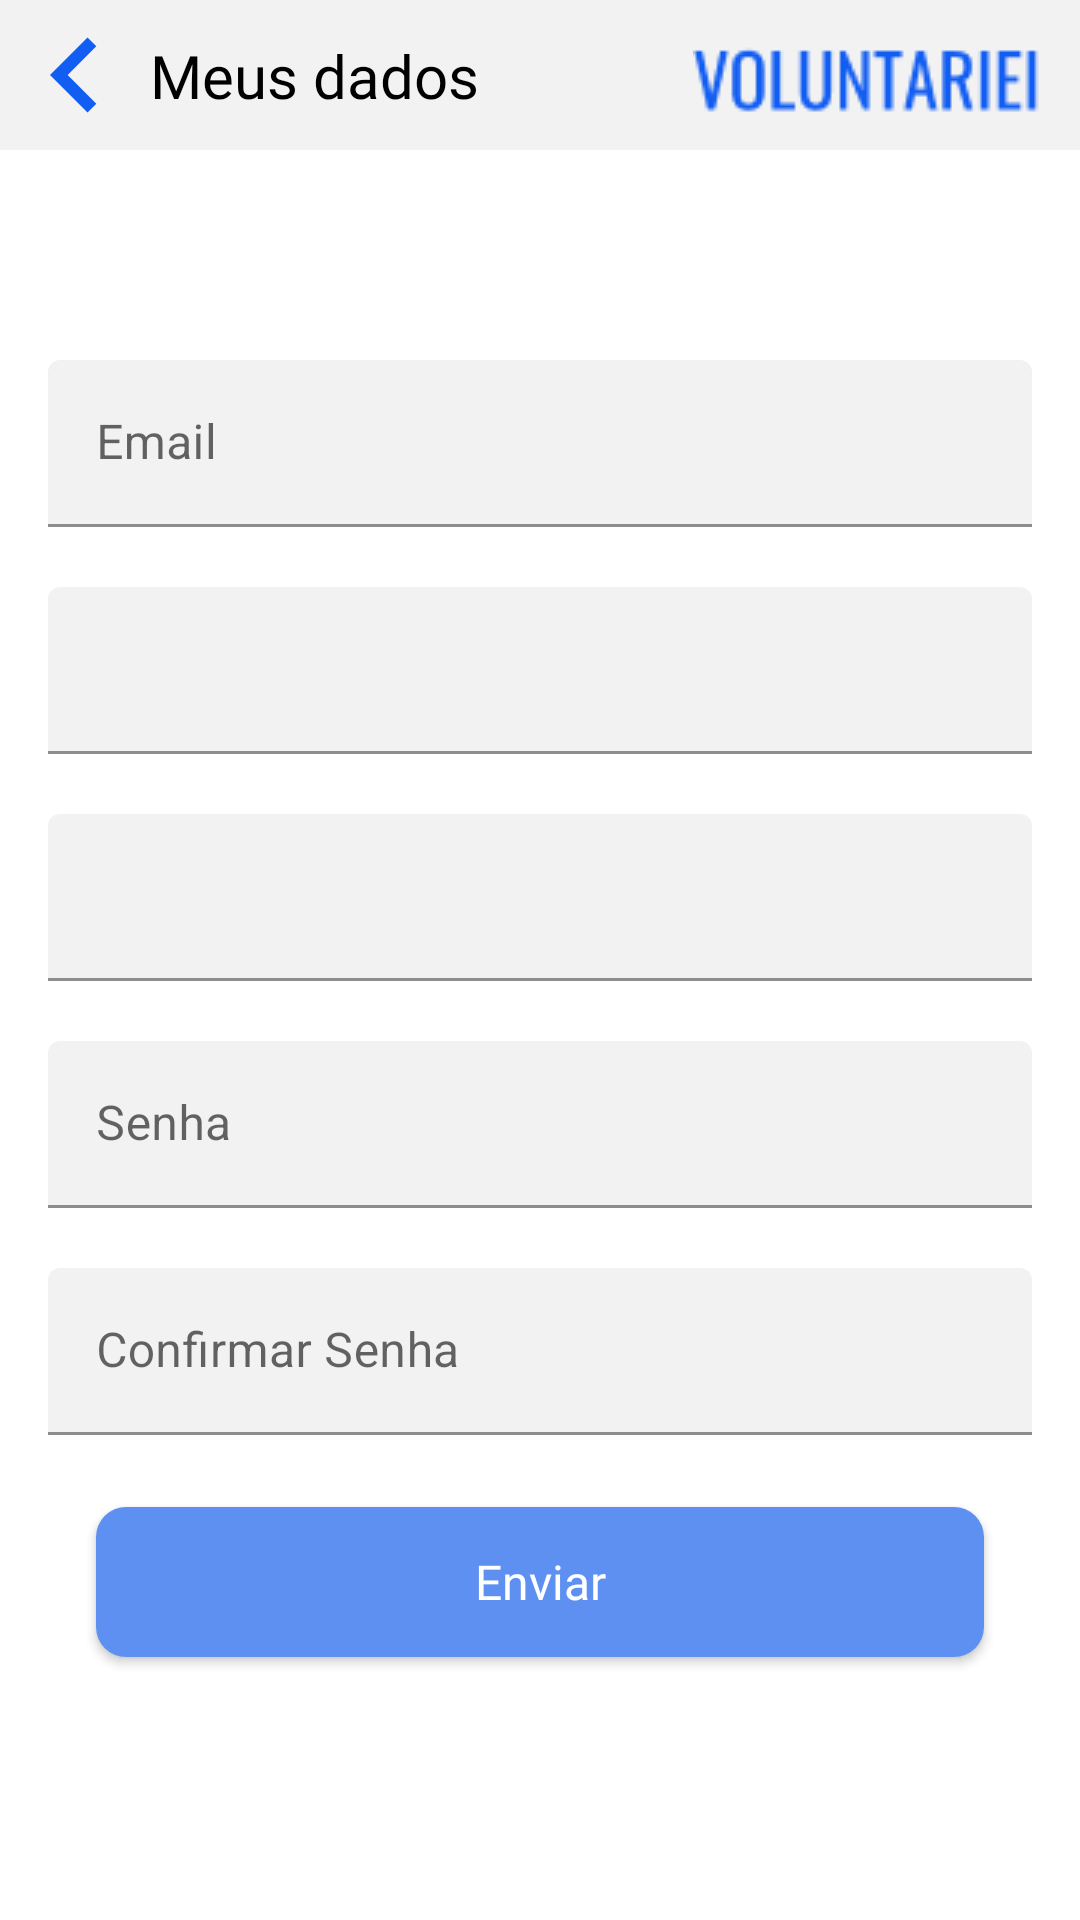

Where to tap for icons on this 1080 x 1920 app screen, as point (x, y):
back: point (73, 75)
